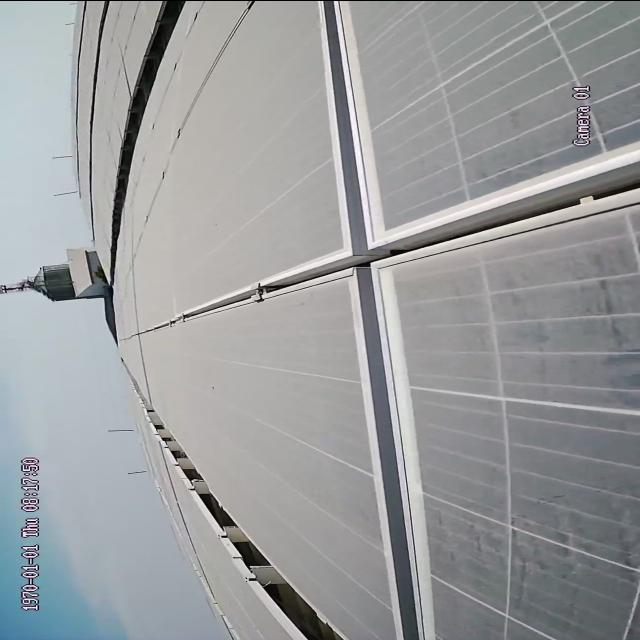interior panel: (162, 168, 580, 327), (324, 28, 430, 618), (577, 152, 638, 212)
outher panel: (139, 393, 356, 639), (101, 3, 187, 261)
